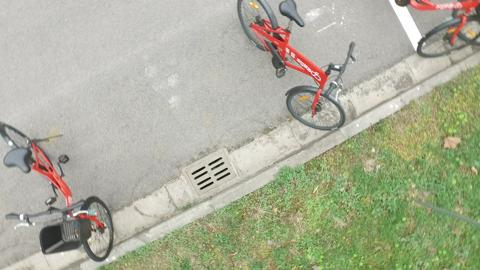bike: (231, 18, 391, 143), (14, 122, 108, 252)
